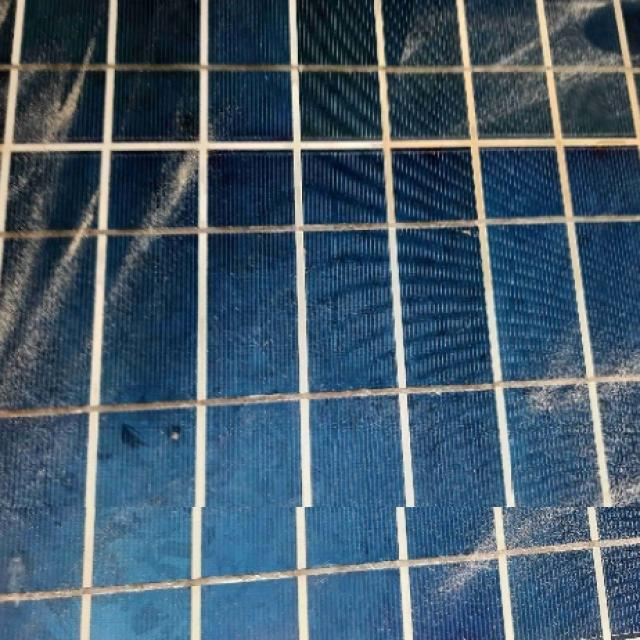Dirty: (0, 0, 640, 507)
